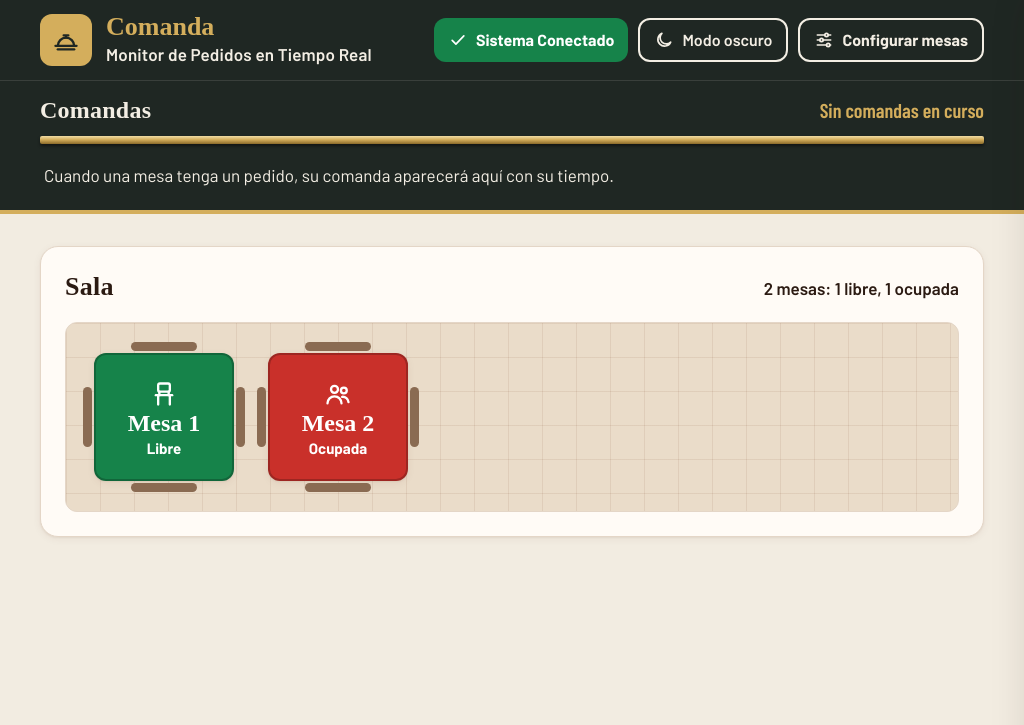
it: App: avanzar el pedido desde el panel de la mesa › un rechazo del backend se muestra dentro del panel abierto, una sola vez
The image size is (1024, 725).
Expected: the text "Mesa 1" is shown, [128,410,200,437]
Click the button titled "Mesa 2 —": (338, 417) [268,353,408,481]
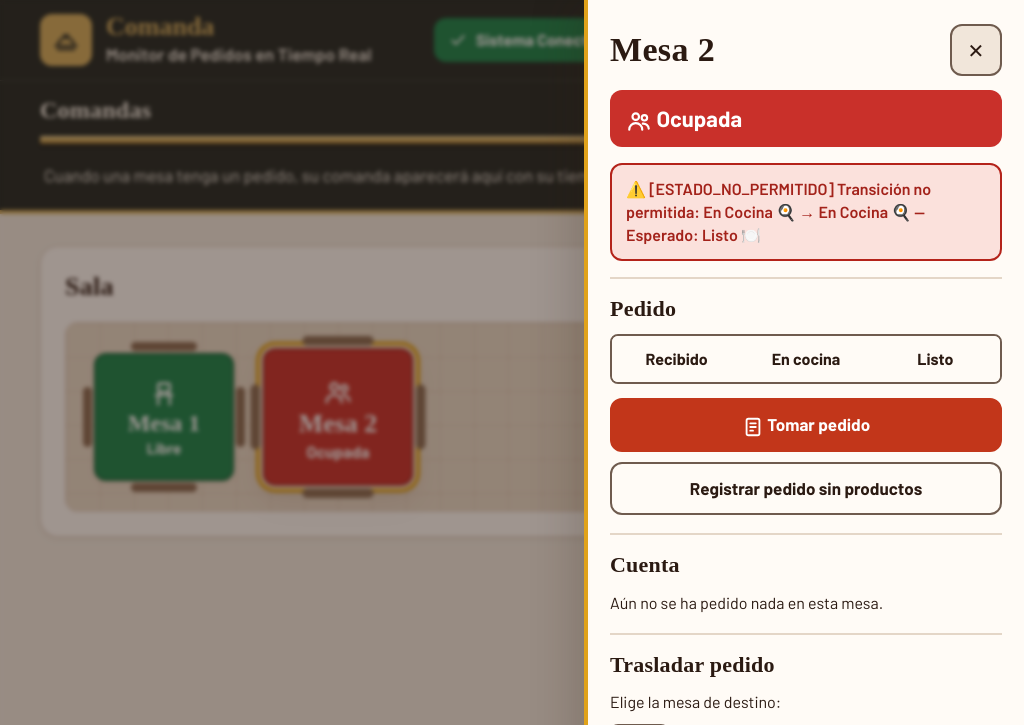
Now the message shows "⚠️ [ESTADO_NO_PERMITIDO] Transición no permitida: En Cocina 🍳 → En Cocina 🍳 —", box [626,179,931,244]
